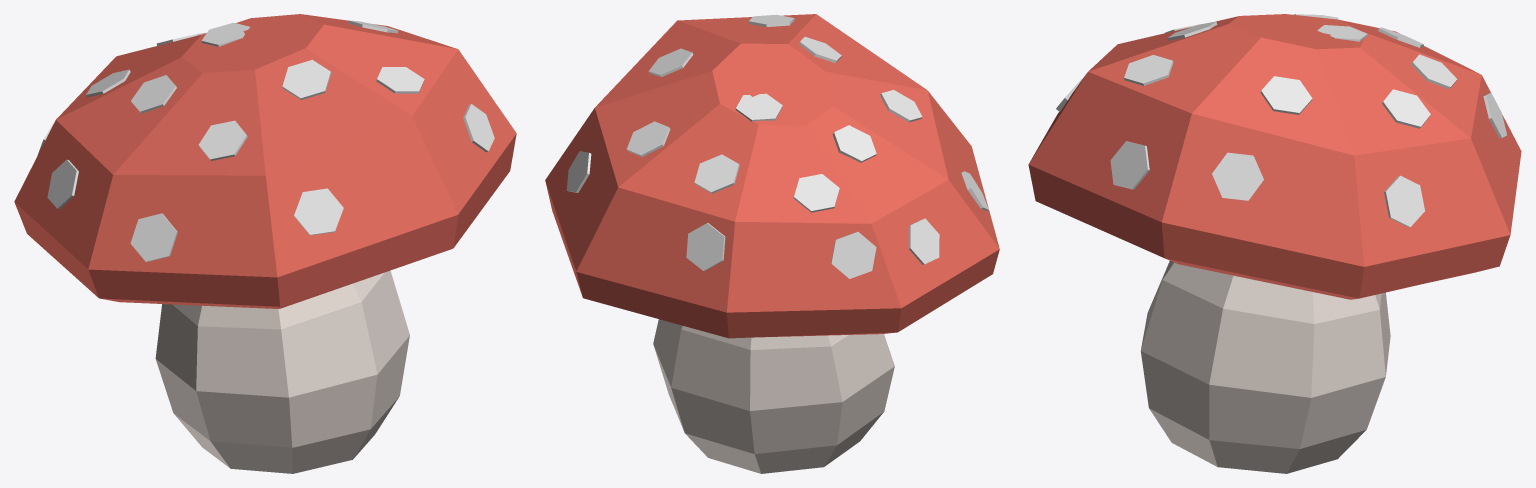
Rendered from Shroom_big.fbx.
The picture shows the model from 3 angles, left to right: view 1: azimuth 30°, elevation 25°; view 2: azimuth 150°, elevation 25°; view 3: azimuth 270°, elevation 25°; orthographic projection. The views are drawn at different scales.
Visible parts, largest first — view 1: Mushroom; view 2: Mushroom; view 3: Mushroom.
Part boxes in pixels (bbox=[...]): Mushroom: bbox=[14, 14, 516, 473]; Mushroom: bbox=[545, 14, 999, 473]; Mushroom: bbox=[1028, 14, 1521, 473].
Size of the model in its own units: 122 by 116 by 123.
